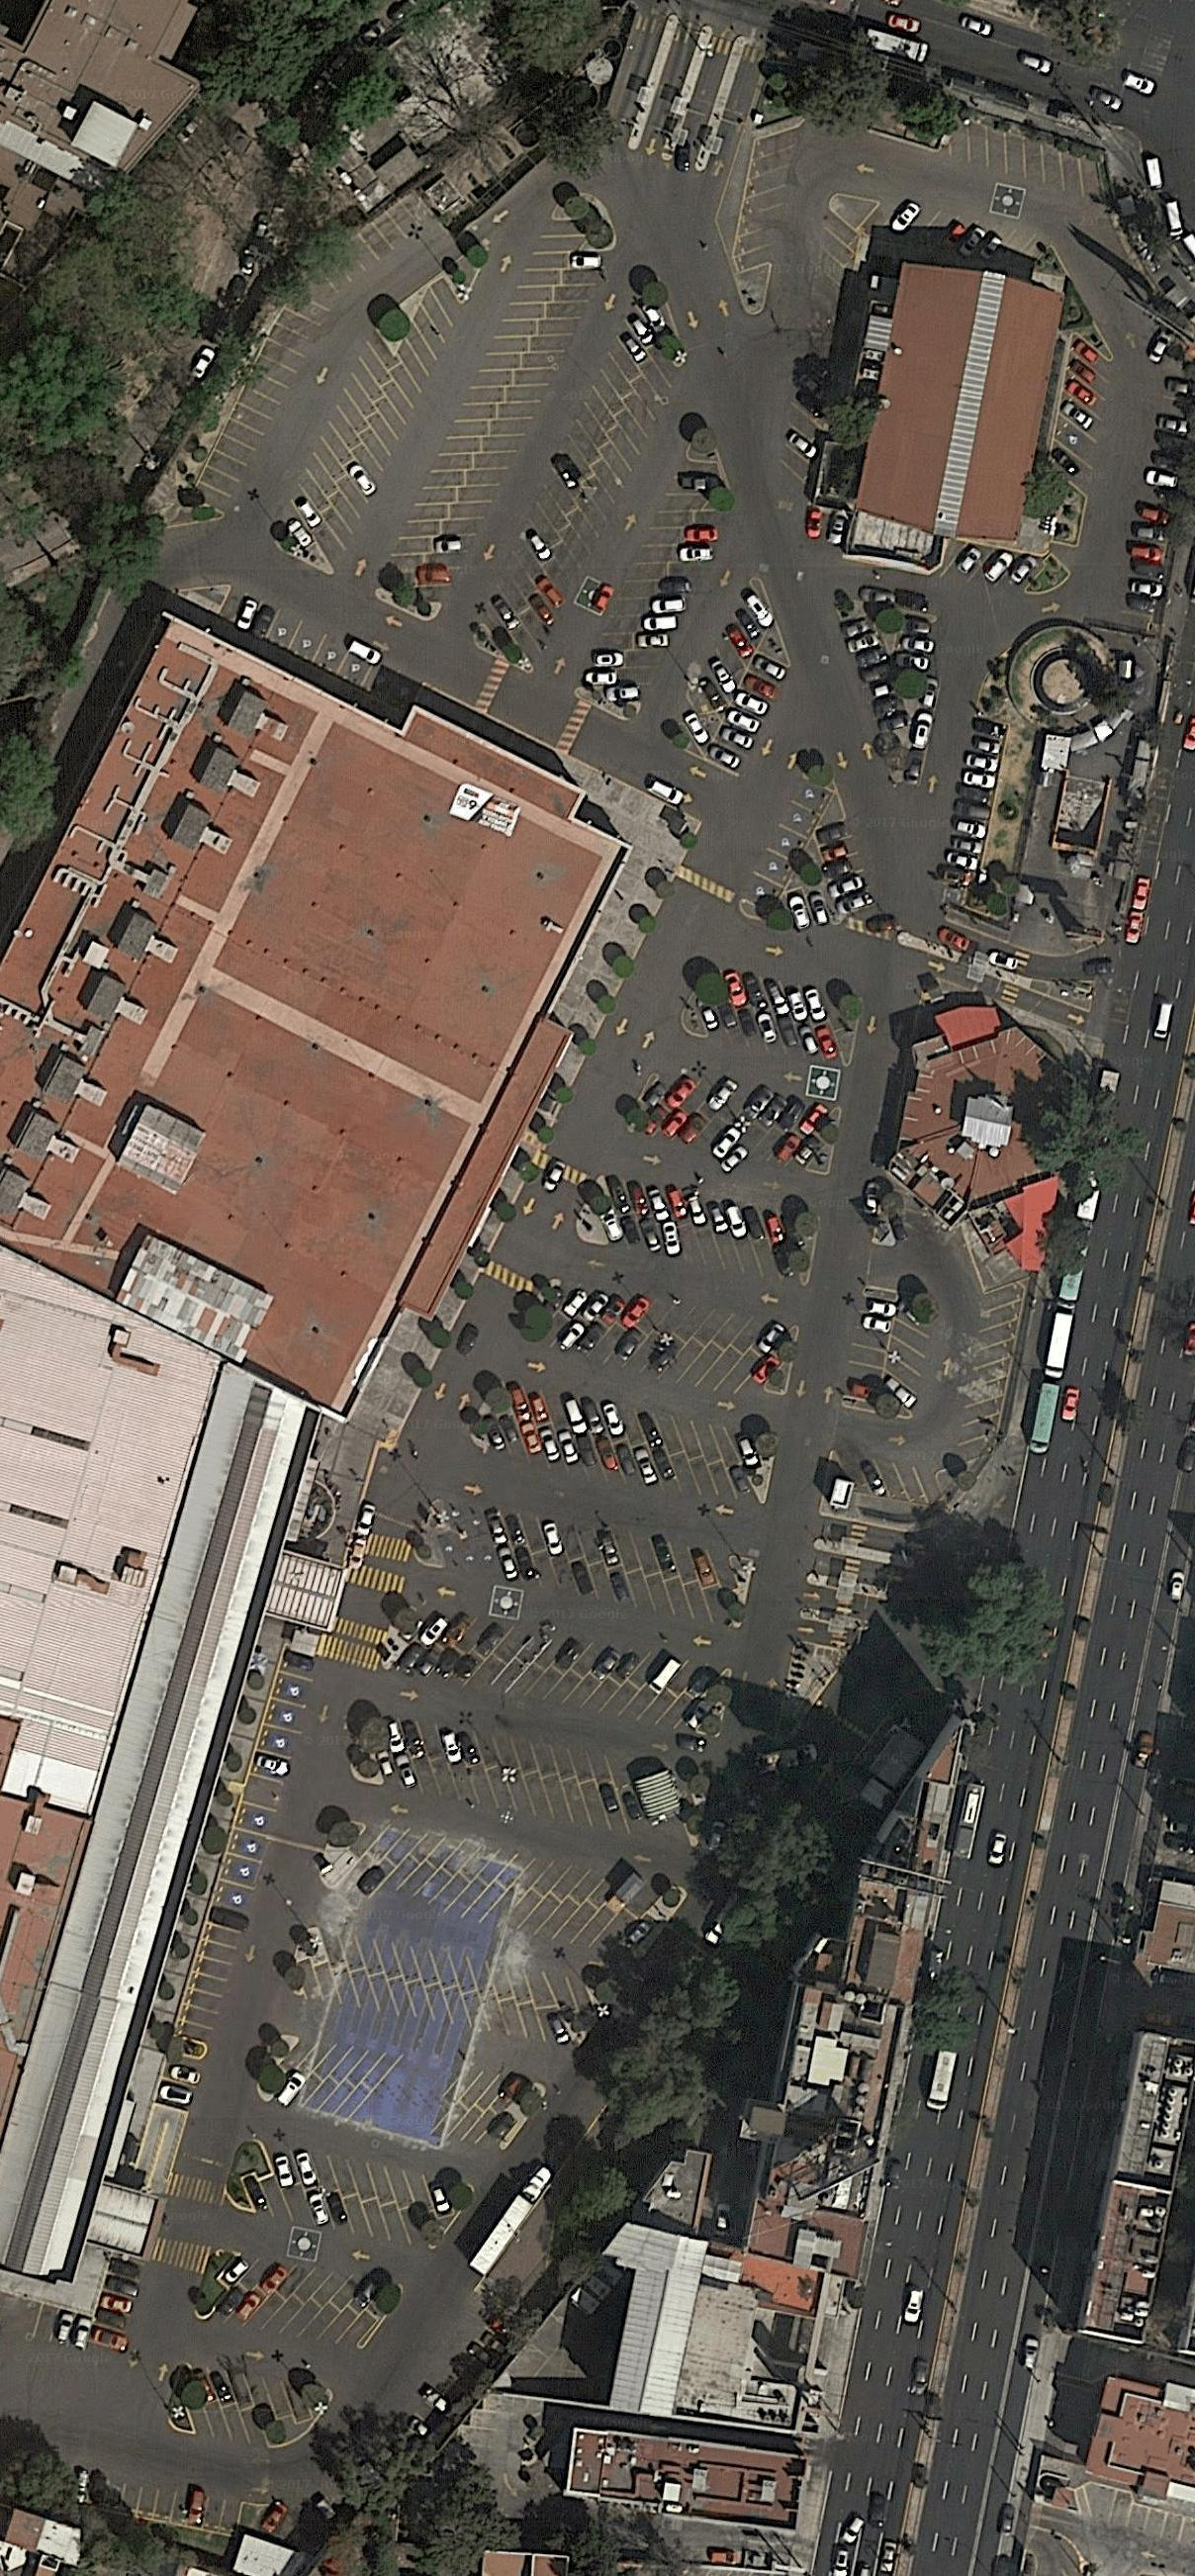parkingspot: (376, 217, 593, 591), (414, 246, 615, 606), (482, 302, 661, 651), (508, 340, 681, 665), (311, 276, 464, 575), (330, 1850, 653, 1958), (345, 1819, 676, 1922), (580, 457, 723, 687), (394, 1605, 731, 1702), (385, 1638, 720, 1735), (209, 1644, 324, 1919), (439, 1495, 741, 1594), (436, 1531, 736, 1628), (187, 304, 324, 516), (215, 582, 427, 716), (279, 329, 404, 554), (485, 1410, 763, 1503), (371, 1746, 654, 1838), (294, 1955, 577, 2047), (603, 506, 731, 703), (316, 1924, 592, 2013), (503, 1383, 764, 1472), (534, 1309, 786, 1398), (1114, 375, 1193, 639), (380, 1715, 636, 1792), (557, 1280, 799, 1360), (679, 580, 774, 757), (261, 2139, 455, 2221), (240, 2172, 431, 2251), (950, 1280, 1027, 1470), (856, 197, 1057, 269), (639, 1071, 843, 1142), (603, 1173, 789, 1250), (934, 118, 1105, 202), (598, 1209, 786, 1285), (738, 774, 837, 917), (634, 1102, 828, 1175), (935, 713, 1011, 889), (401, 2318, 508, 2441), (217, 2249, 393, 2316), (76, 2469, 245, 2538), (210, 2280, 380, 2349), (1047, 330, 1114, 499), (731, 120, 804, 276), (702, 651, 791, 775), (694, 999, 847, 1068), (837, 613, 912, 738), (171, 1920, 245, 2047), (717, 968, 853, 1033), (187, 2361, 314, 2426), (278, 2035, 406, 2093), (810, 815, 879, 917), (85, 2252, 148, 2354), (357, 189, 441, 264), (842, 1293, 897, 1403), (832, 1451, 945, 1505), (939, 540, 1047, 595), (268, 2068, 375, 2123), (879, 1316, 932, 1418), (439, 2063, 536, 2118), (899, 675, 944, 787), (427, 2100, 518, 2152), (184, 2397, 273, 2448), (776, 399, 825, 486), (814, 207, 861, 294), (31, 2302, 94, 2356), (155, 2054, 207, 2113), (891, 618, 935, 675), (781, 885, 835, 931), (801, 508, 855, 550), (301, 297, 334, 329)
